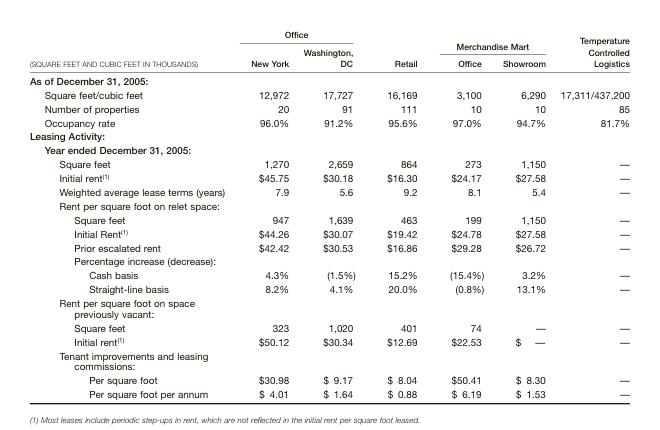table: (28, 29, 628, 399)
table column: (28, 29, 237, 399), (295, 29, 370, 399), (370, 29, 432, 399), (432, 29, 492, 399), (492, 29, 552, 399), (237, 29, 295, 399), (552, 29, 598, 399), (598, 29, 628, 399)
table column header: (28, 29, 628, 101)
table projected row header: (28, 295, 628, 320), (28, 347, 628, 372), (28, 128, 628, 142), (28, 142, 628, 156), (28, 198, 628, 212), (28, 253, 628, 267)
table row: (28, 48, 628, 78), (28, 295, 628, 320), (28, 347, 628, 372), (28, 78, 628, 101), (28, 29, 628, 48), (28, 114, 628, 128), (28, 128, 628, 142), (28, 142, 628, 156), (28, 156, 628, 170), (28, 170, 628, 184), (28, 184, 628, 198), (28, 198, 628, 212), (28, 212, 628, 226), (28, 239, 628, 253), (28, 253, 628, 267), (28, 267, 628, 281), (28, 281, 628, 295), (28, 320, 628, 334), (28, 372, 628, 386), (28, 101, 628, 114), (28, 226, 628, 239), (28, 334, 628, 347), (28, 386, 628, 399)
table spanning cell: (28, 29, 237, 101), (370, 29, 432, 101), (295, 48, 370, 101), (552, 29, 628, 78), (432, 48, 492, 101), (492, 48, 552, 101), (237, 48, 295, 101), (237, 29, 370, 48), (432, 29, 552, 48)
